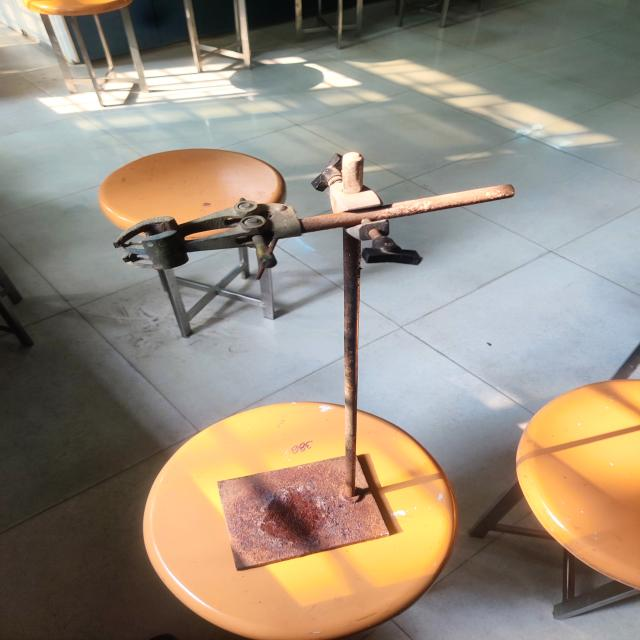Burette_Stands: (94, 133, 535, 598)
